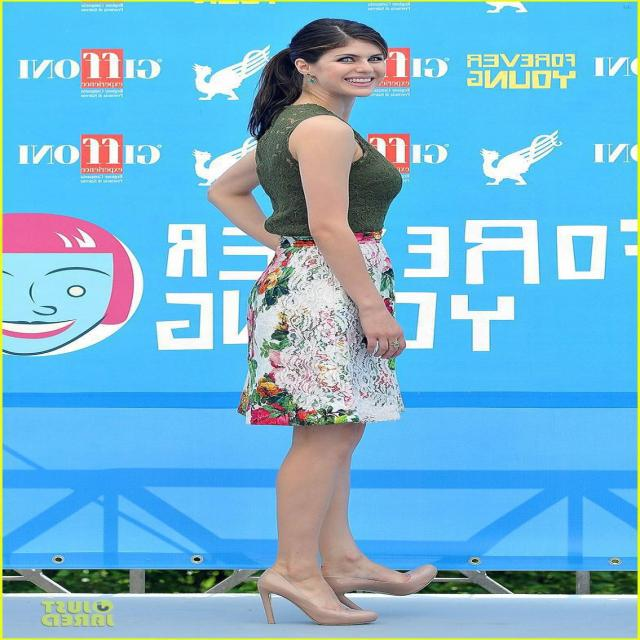no-earmuff: (294, 58, 313, 75)
